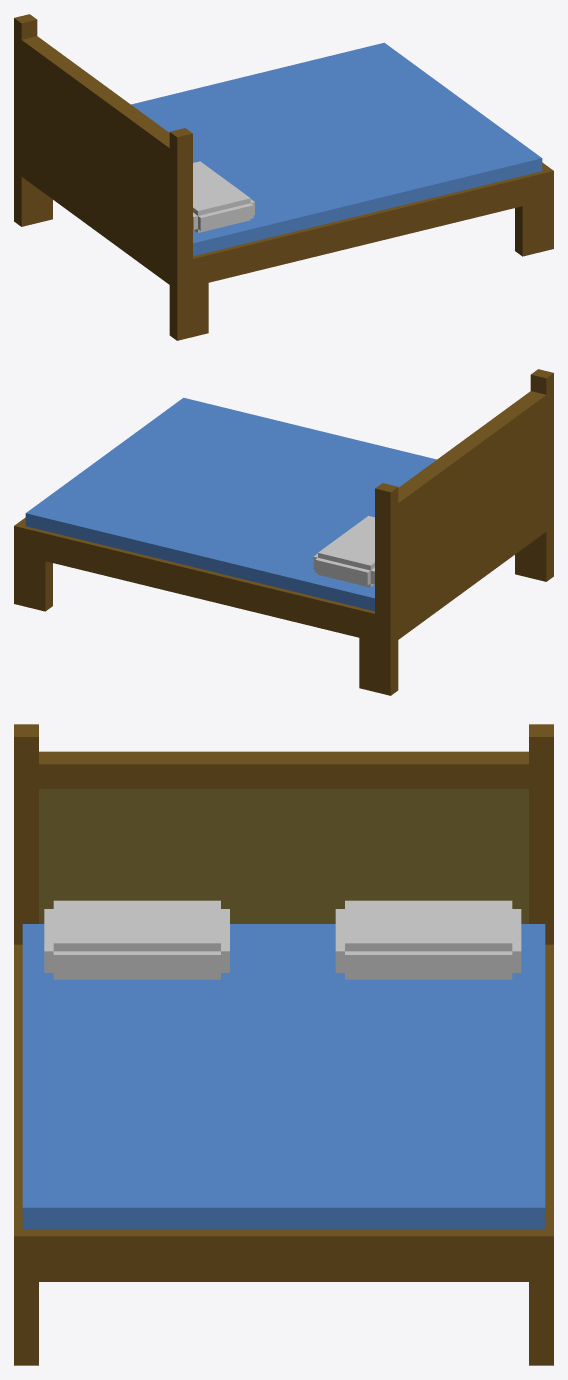
Rendered from queenBed.fbx.
3 views of the same model, one above another, from view 1: azimuth 30°, elevation 25°; view 2: azimuth 150°, elevation 25°; view 3: azimuth 270°, elevation 25° (orthographic). The views are drawn at different scales.
Visible parts, largest first — view 1: queenBad, pillow1; view 2: queenBad, pillow2; view 3: queenBad, pillow2, pillow1.
Boxes of the visible parts, x1,y1,x2,y2 form: queenBad: (14,14,553,340); pillow1: (193,161,254,232); queenBad: (14,369,553,695); pillow2: (313,516,374,587); queenBad: (14,724,553,1365); pillow2: (335,900,521,979); pillow1: (44,900,229,979).
Bounding box in the file's own units: 600 × 310 × 450.
